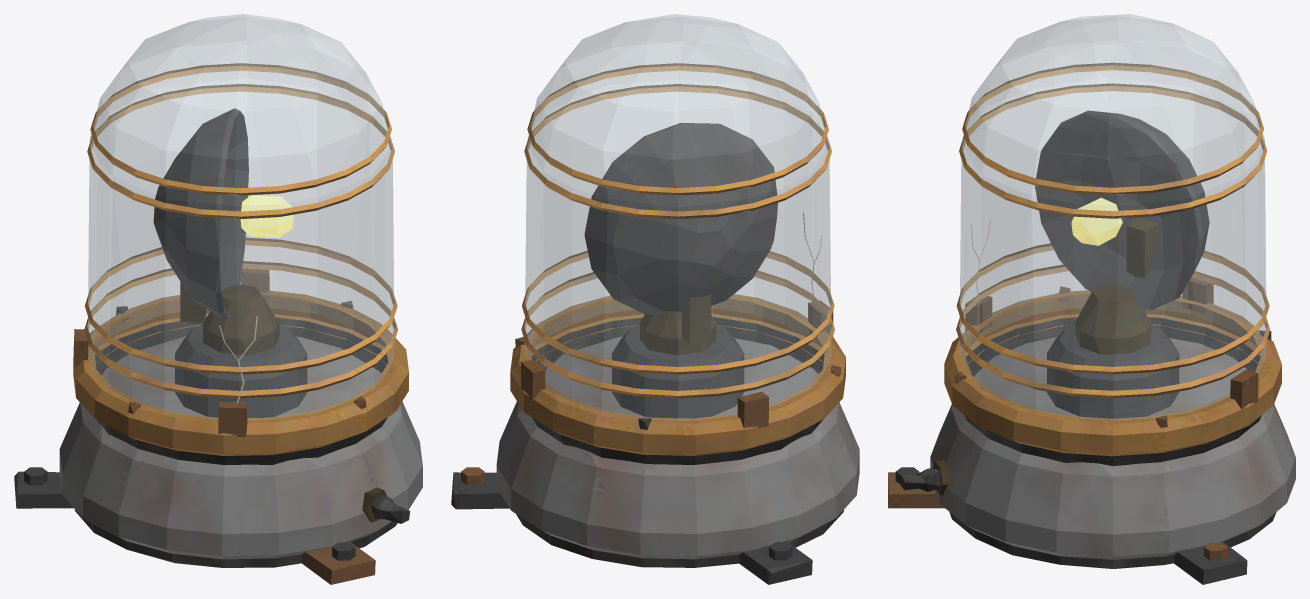
File: U18_warning_beacon.glb
3 renders of one model, left to right at view 1: azimuth 30°, elevation 25°; view 2: azimuth 150°, elevation 25°; view 3: azimuth 270°, elevation 25°, orthographic.
Visible parts, largest first — view 1: Rubber mounting gasket; view 2: Rubber mounting gasket; view 3: Rubber mounting gasket.
Part boxes in pixels (x1,y1,x2,y2): Rubber mounting gasket: [14, 14, 422, 584]; Rubber mounting gasket: [451, 14, 859, 584]; Rubber mounting gasket: [888, 14, 1295, 584].
Bounding box in the file's own units: 0.2413 × 0.3 × 0.2373.
Materials: 10 (8 with a texture image).
